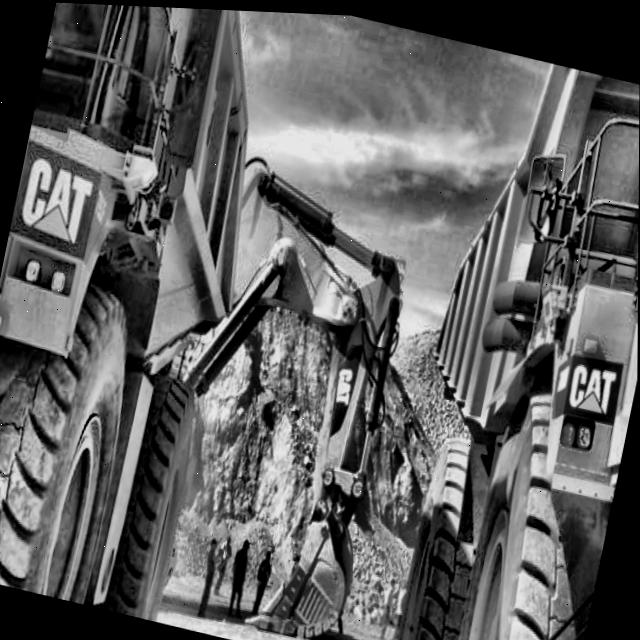dump_truck: (0, 0, 294, 627), (364, 40, 640, 640)
excavator: (151, 127, 451, 640)
